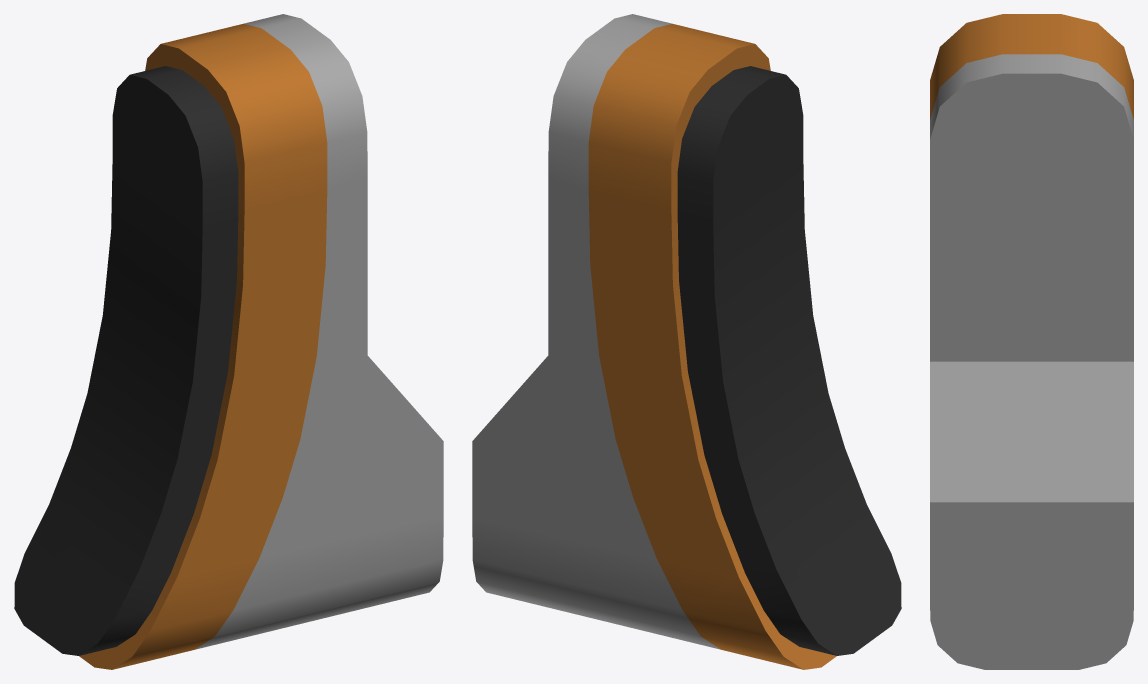
File: quaternius-modular-sci-fi-guns-stock-sniper-1.glb
The picture shows the model from 3 angles, left to right: view 1: azimuth 30°, elevation 25°; view 2: azimuth 150°, elevation 25°; view 3: azimuth 270°, elevation 25°; orthographic projection.
Parts seen in each view (by area): view 1: Stock_Sniper_1; view 2: Stock_Sniper_1; view 3: Stock_Sniper_1.
Boxes of the visible parts, <box> form: Stock_Sniper_1: <box>14,14,443,669</box>; Stock_Sniper_1: <box>472,14,901,669</box>; Stock_Sniper_1: <box>930,14,1133,669</box>.
Size of the model in its own units: 0.1795 by 0.2756 by 0.091.
